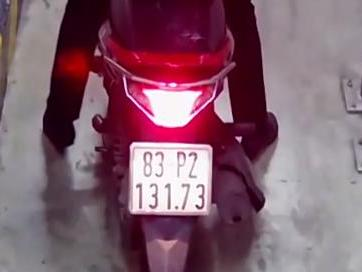num_plate: (130, 143, 211, 215)
